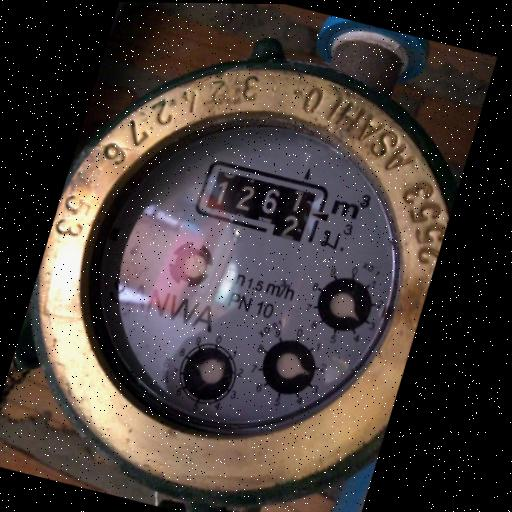1: (276, 187, 313, 243), (207, 170, 235, 213)
2: (230, 176, 261, 218)
6: (254, 181, 284, 224)
border_water_meter_number: (190, 155, 339, 248)
